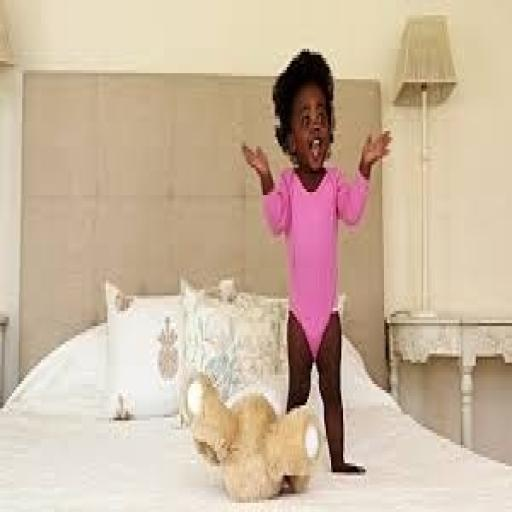clapping: (239, 46, 392, 475)
